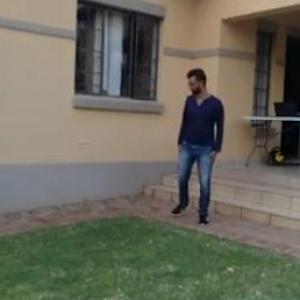follow: (173, 58, 224, 235)
